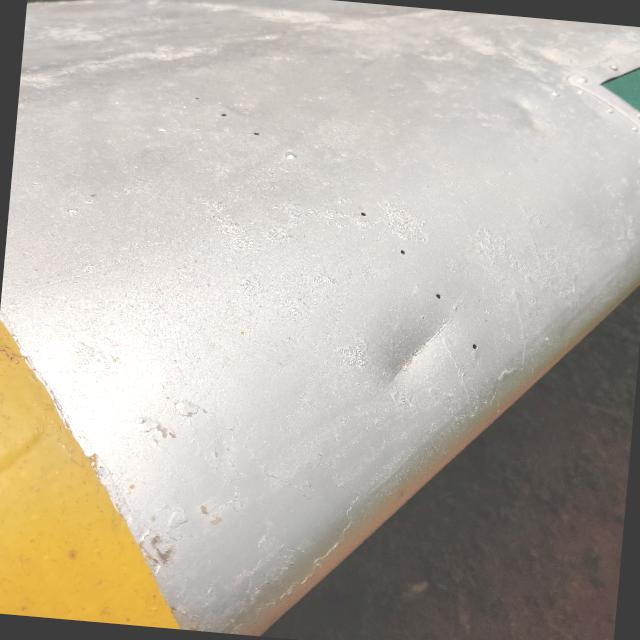dent: (340, 284, 481, 424)
